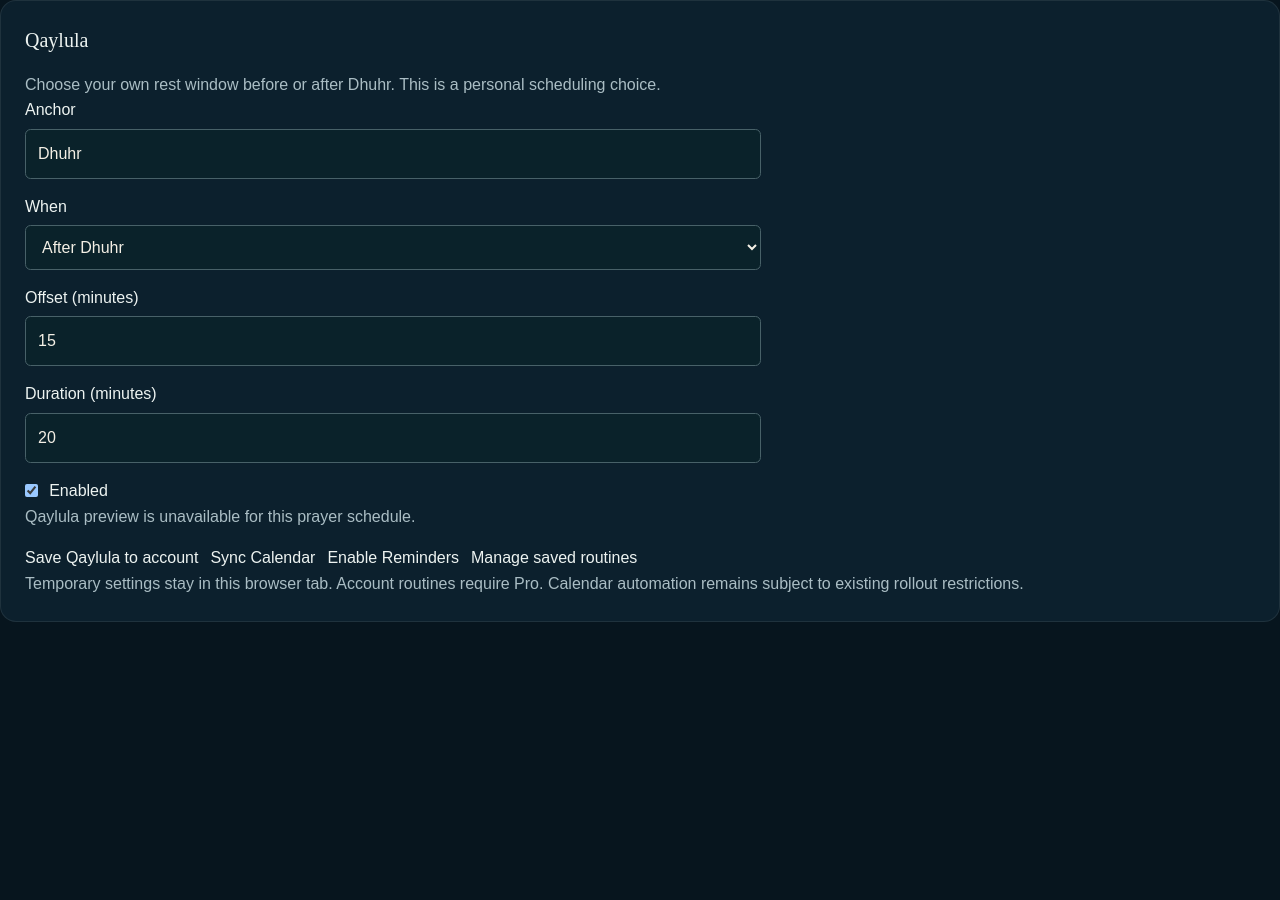
Test case: preserves the advanced-routines entitlement restriction
The width and height of the screenshot is (1280, 900).
Click the button "Save Qaylula to account" at point(112, 558), box [25,546,198,570]
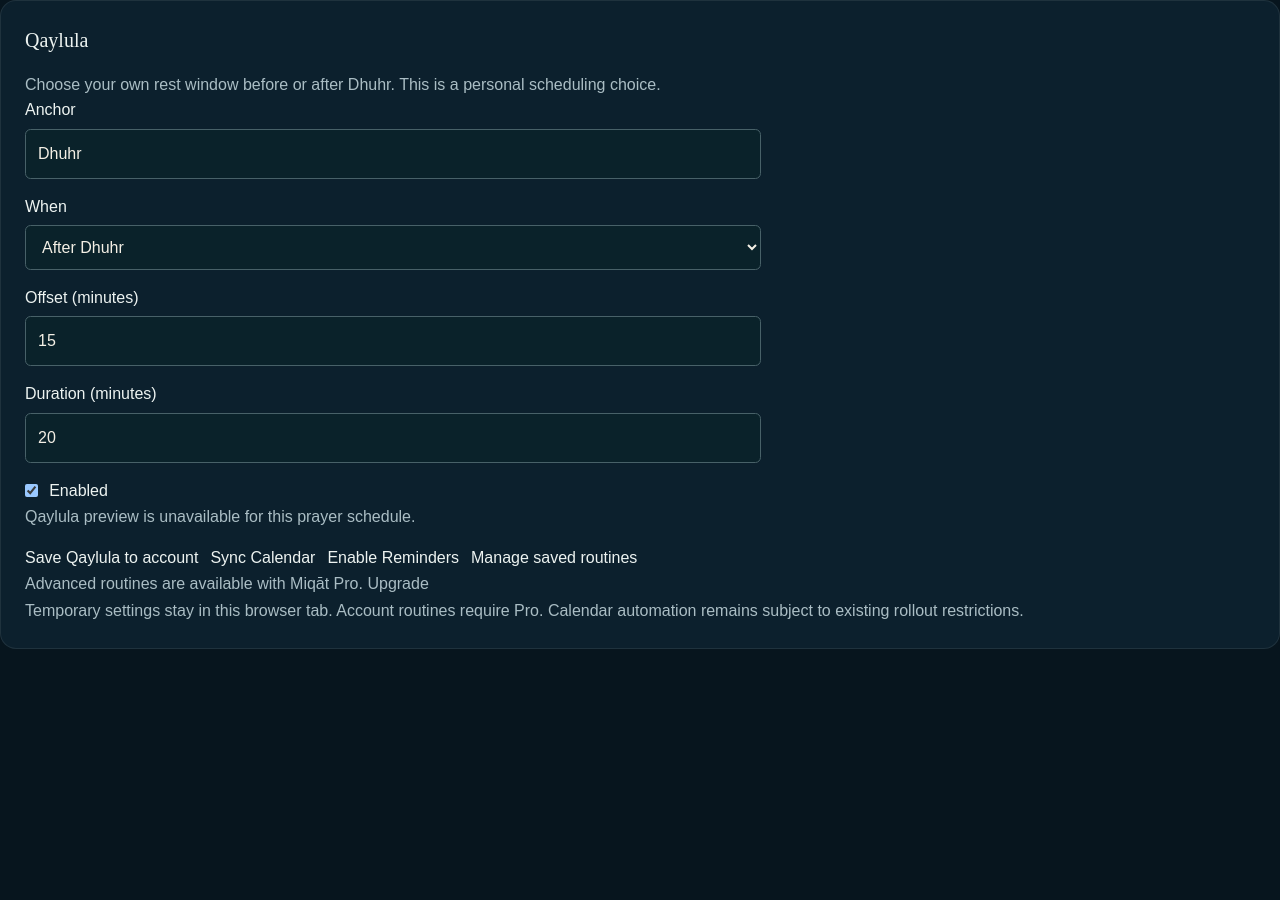
Expected: the text "Advanced routines are available with Miqāt Pro." is shown, [25,575,363,592]
